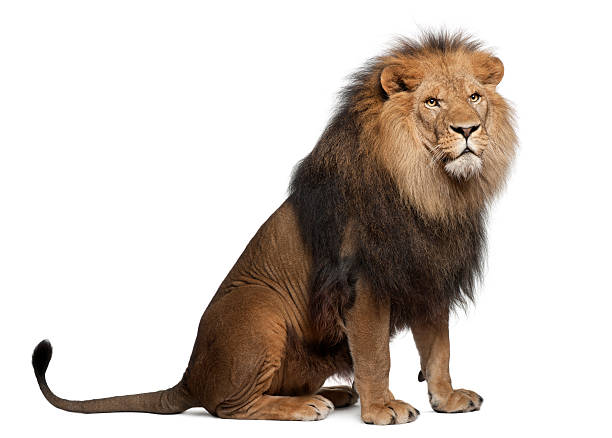lion: (238, 4, 537, 360)
